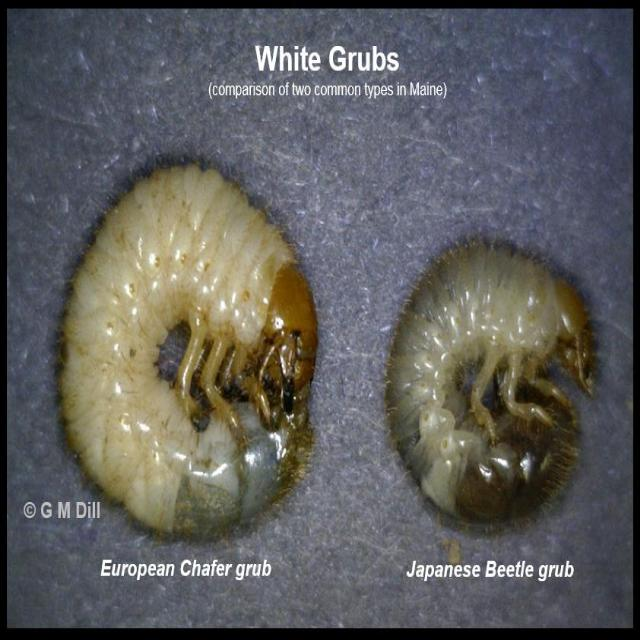Grub-Adult-: (51, 156, 327, 532), (382, 234, 593, 526)
